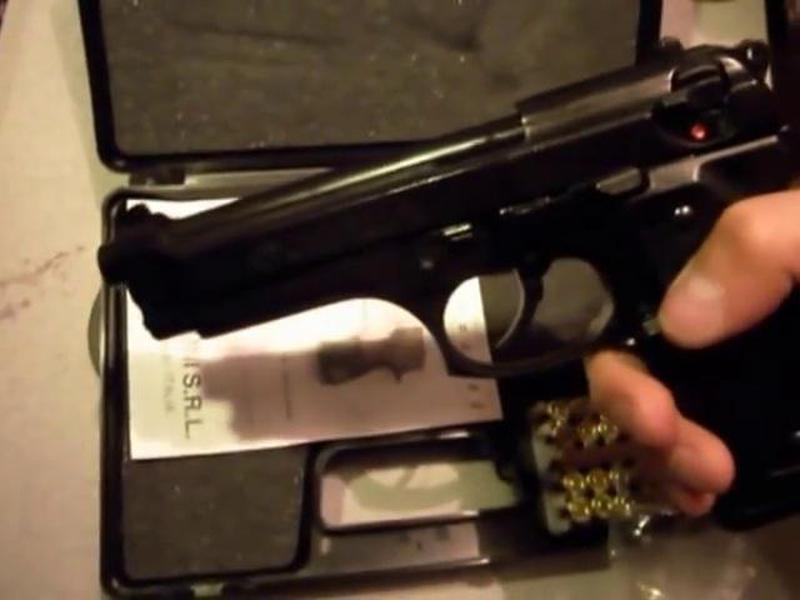Pistola: (61, 57, 796, 512)
